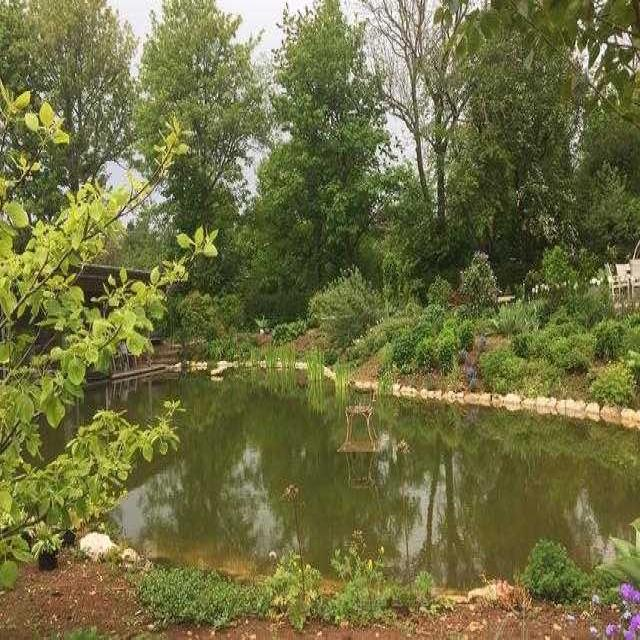Ponds: (31, 362, 639, 603)
